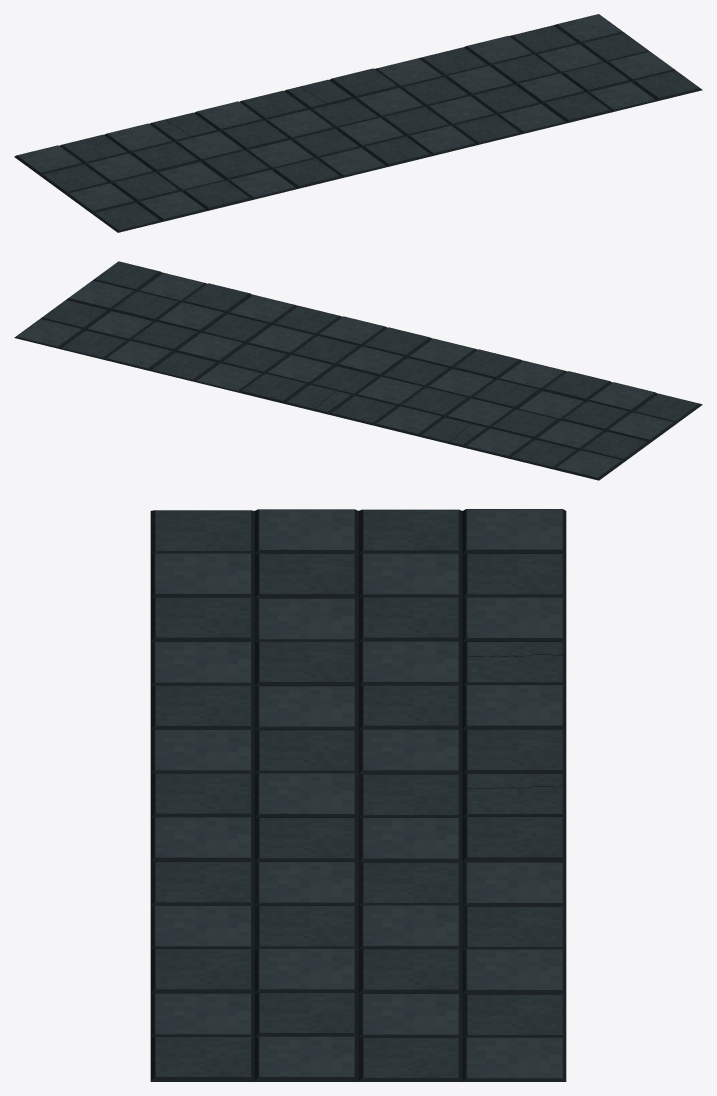
File: T1_FloorStrip_W13_A.fbx
The picture shows the model from 3 angles, top to bottom: view 1: azimuth 30°, elevation 25°; view 2: azimuth 150°, elevation 25°; view 3: azimuth 270°, elevation 25°; orthographic projection. The views are drawn at different scales.
Visible parts, largest first — view 1: T1_FloorStrip_W13_A; view 2: T1_FloorStrip_W13_A; view 3: T1_FloorStrip_W13_A.
Boxes of the visible parts, bbox=[...] form: T1_FloorStrip_W13_A: bbox=[14, 14, 702, 232]; T1_FloorStrip_W13_A: bbox=[14, 261, 702, 480]; T1_FloorStrip_W13_A: bbox=[150, 509, 566, 1081].
Bounding box in the file's own units: 14.62 × 0.0417 × 4.5.
